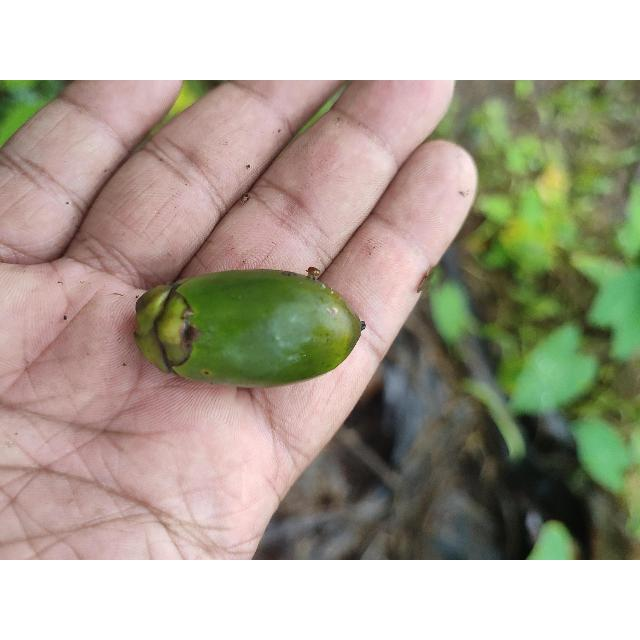damaged: (132, 269, 367, 390)
